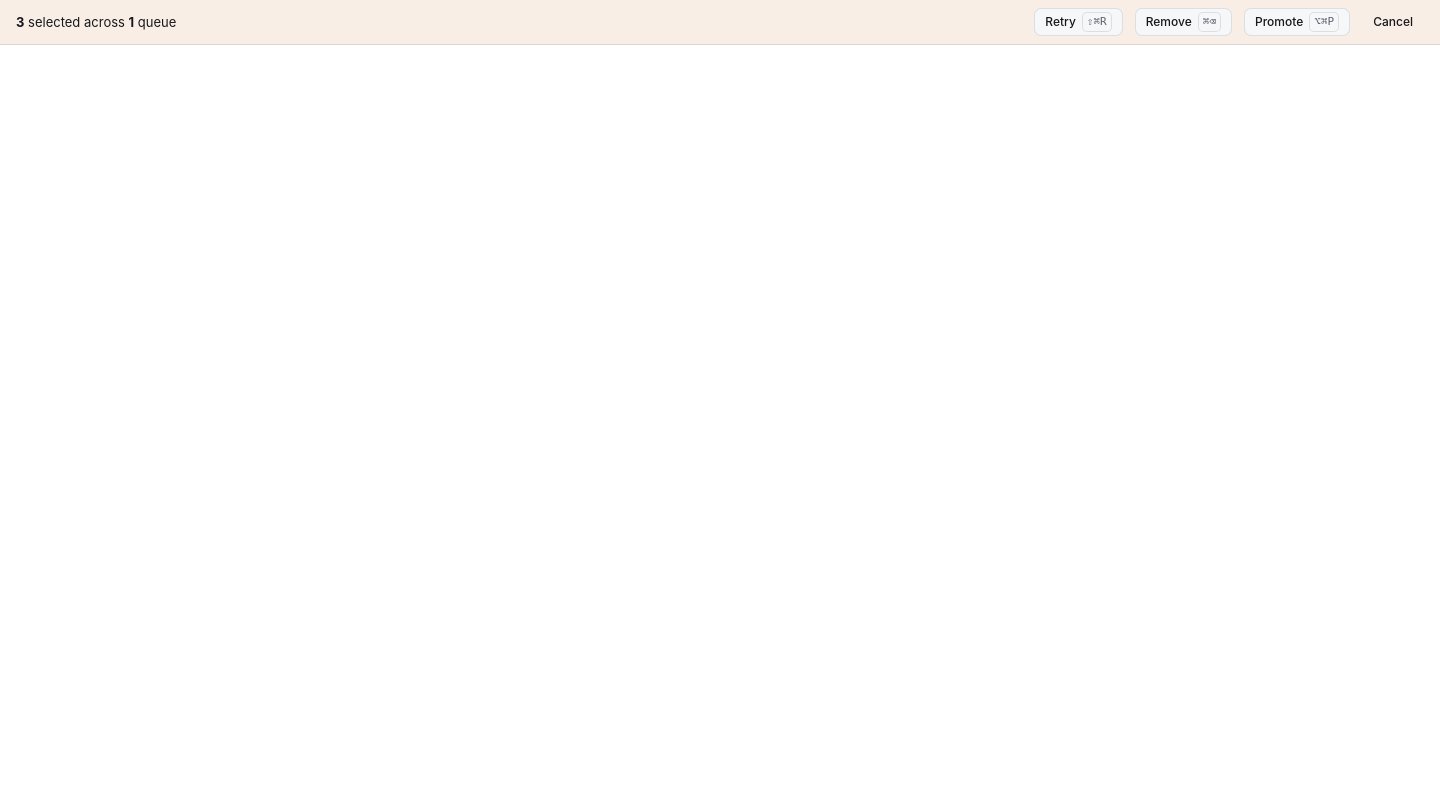
BulkActionBar: executing + complete states › partial failure renders the failures list in the summary
Click the button with test id "bulk-action-remove" at (1183, 22), box [1135, 8, 1232, 36]
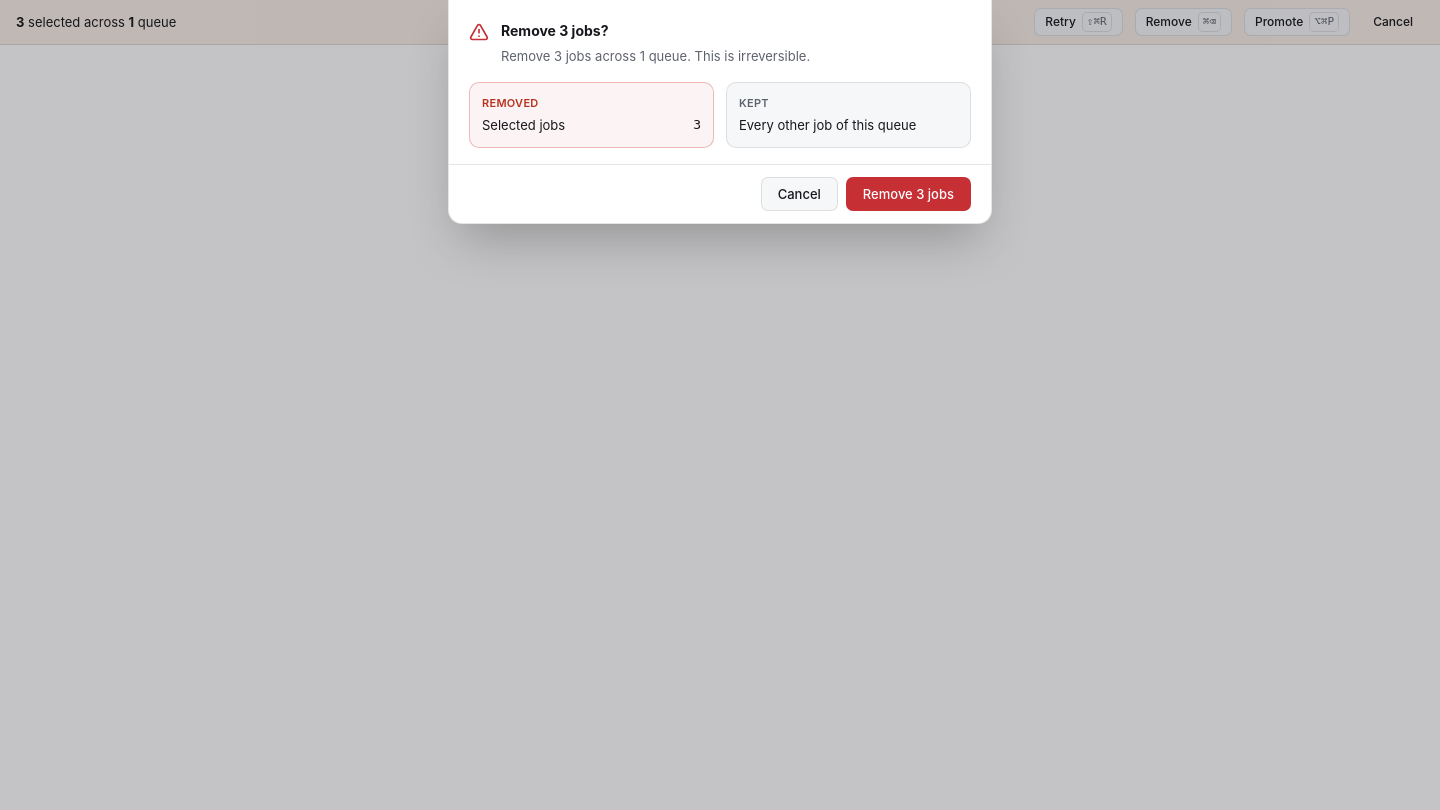
Click the button with test id "bulk-action-bar-execute" at (908, 194), box [846, 177, 971, 211]
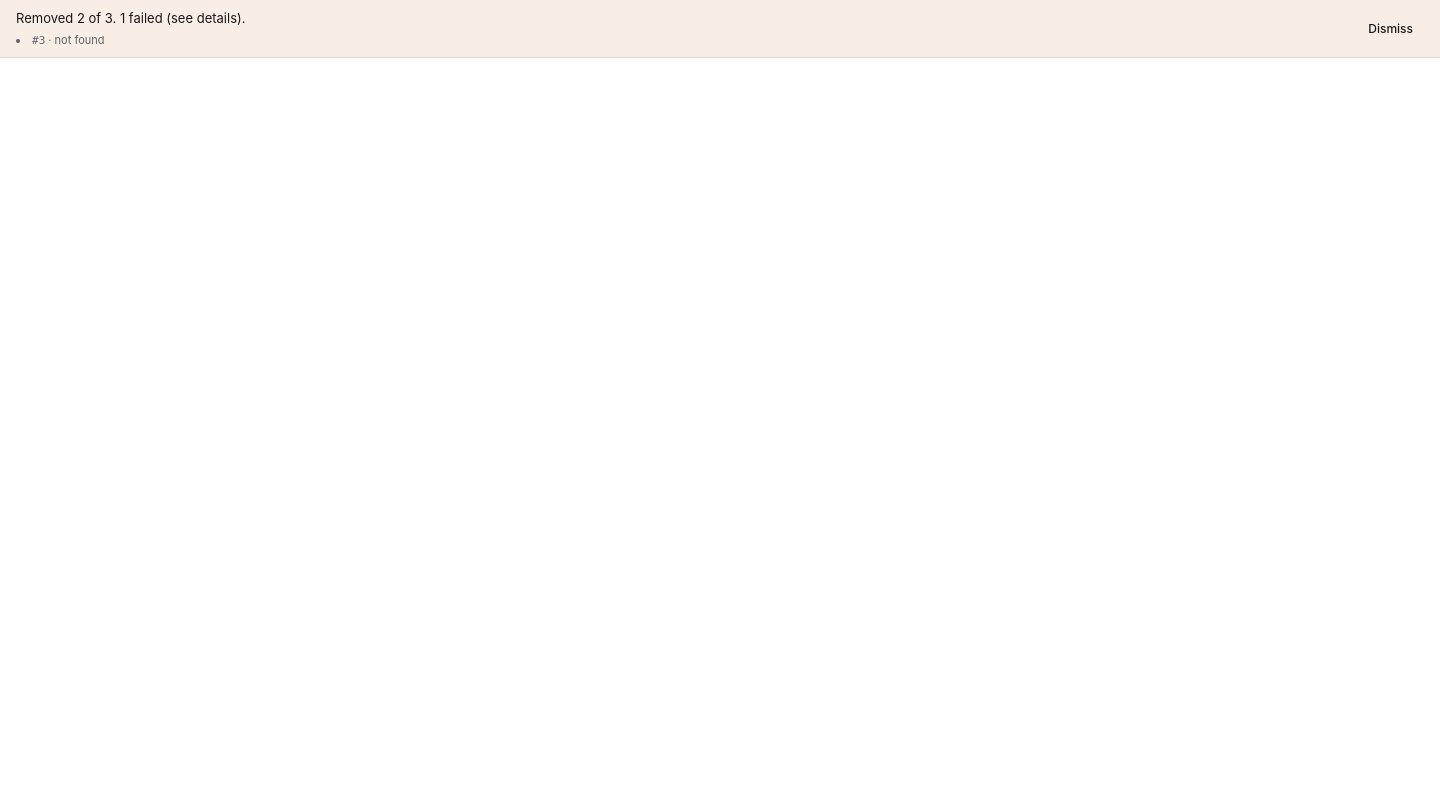
Now the element with test id "bulk-action-bar-complete" reads "Removed 2 of 3. 1 failed (see details). #3 · not found", box [16, 10, 246, 26]
Now the element with test id "bulk-action-bar-complete" shows "#3", box [16, 10, 246, 47]
